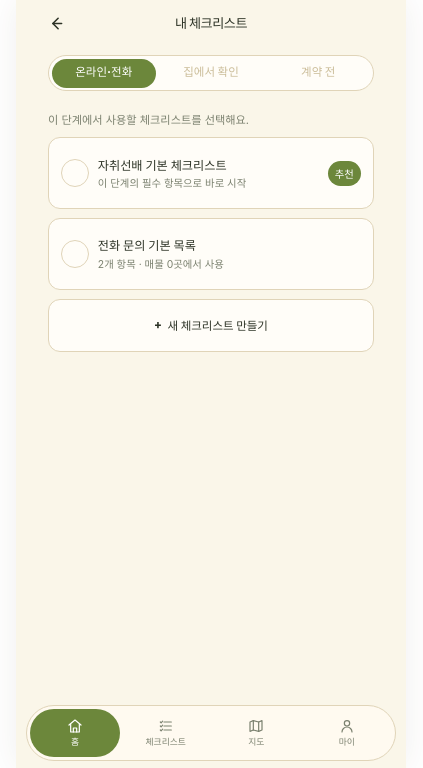
Scenario: 매물 체크리스트 연결과 자동 저장 › 연결을 확정하지 않고 단계를 바꾸면 선택 상태를 폐기한다
Click the checkbox labelled "전화 문의 기본 목록 2개 항목 · 매물 0곳에서 사용". click: (75, 254)
box: [61,240,89,268]
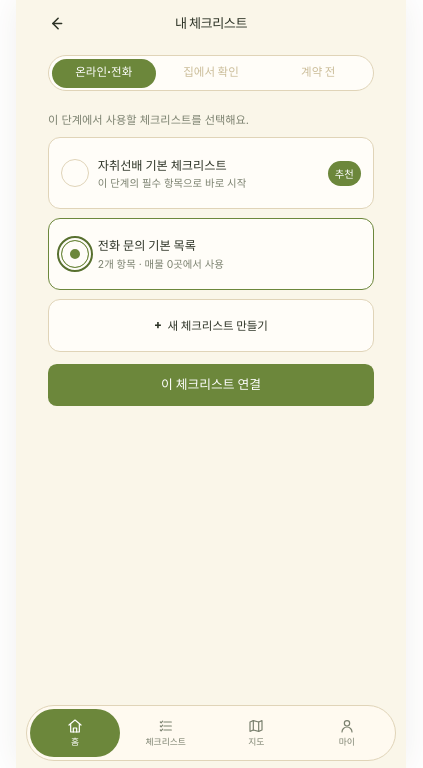
Expected: the button "이 체크리스트 연결" is enabled, [48,364,374,406]
Click the link "집에서 확인". click: (211, 72)
box: [183,65,239,79]
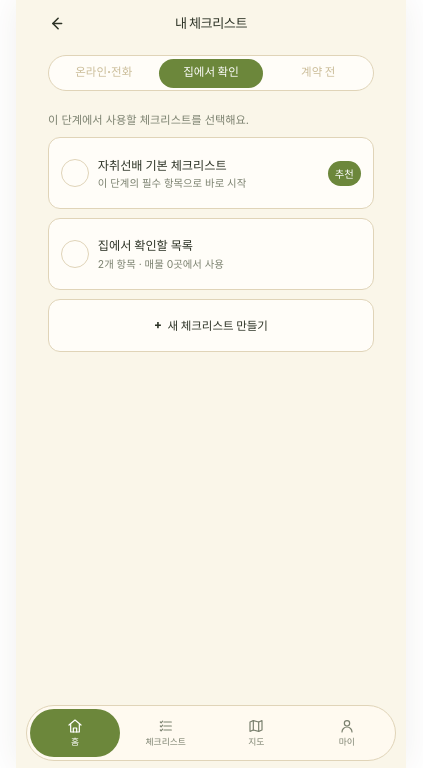
Expected: the checkbox labelled "집에서 확인할 목록 2개 항목 · 매물 0곳에서 사용" is not checked, [61,240,89,268]
Expected: the button "이 체크리스트 연결" is gone
